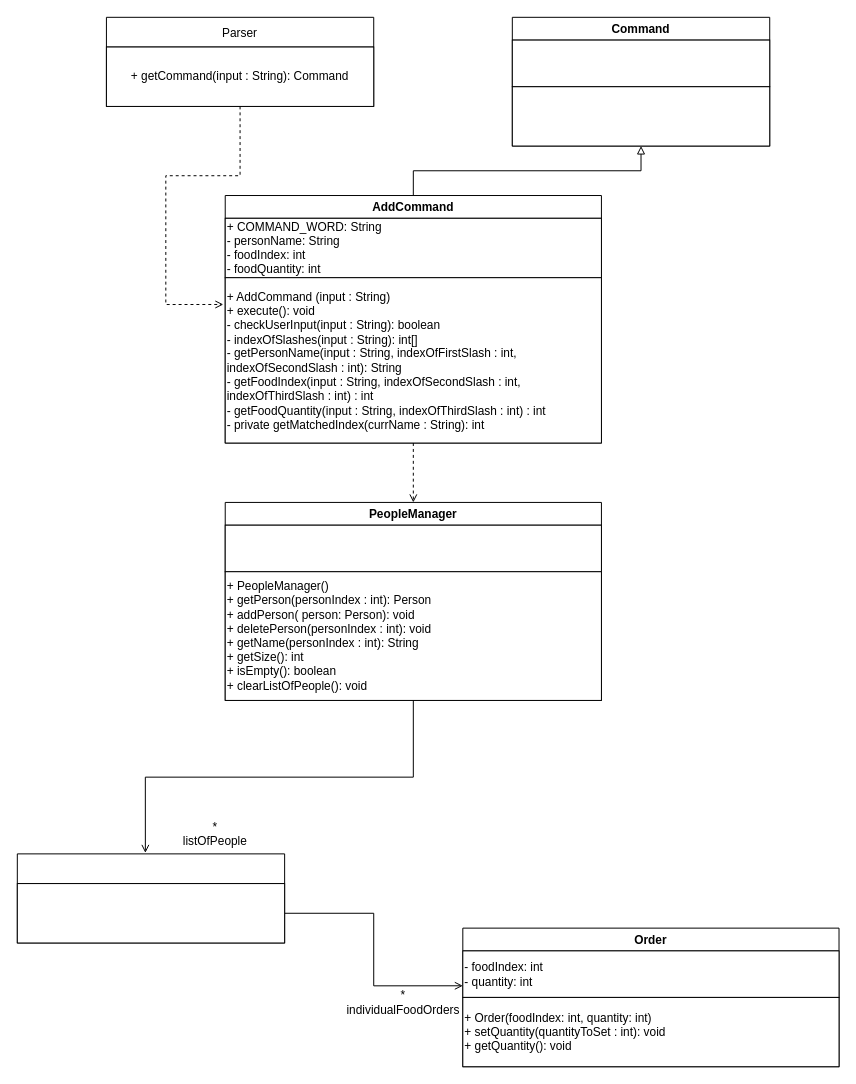
Image size: 856x1084. Some labels were removed from this diagram. The box of each missing label's shape, as (x1, y1, x2, y2) in pixels:
# peopleManager: PeopleManager: (511, 39, 770, 87)
+ addFoodToIndividualFoodOrders( foodIndex : int, foodQuantity : int): void: (16, 883, 285, 943)
+ Command() + setData(manager : PeopleManager) + execute() : void: (511, 86, 770, 146)
- listOfPeople<> : Person: (224, 524, 601, 572)
Person: (16, 853, 285, 943)
